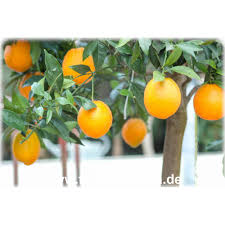orange: (142, 73, 183, 117), (60, 47, 97, 84), (77, 102, 112, 138), (191, 84, 224, 121), (4, 40, 37, 74), (13, 126, 43, 162)
